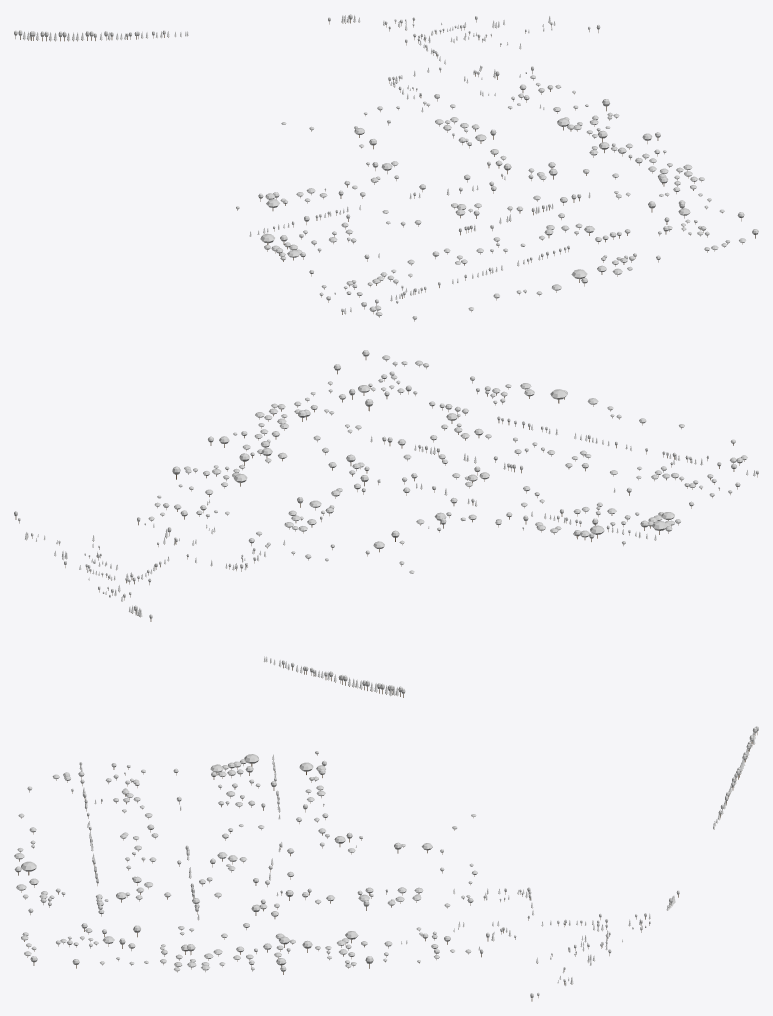
The model's file is stromy.glb.
The picture shows the model from 3 angles, top to bottom: view 1: azimuth 30°, elevation 25°; view 2: azimuth 150°, elevation 25°; view 3: azimuth 270°, elevation 25°; orthographic projection. The views are drawn at different scales.
Visible parts, largest first — view 1: Stromy_Listnate_01_04, Stromy_Ihlicnate_01_04; view 2: Stromy_Listnate_01_04, Stromy_Ihlicnate_01_04; view 3: Stromy_Listnate_01_04, Stromy_Ihlicnate_01_04.
Part boxes in pixels (x1,y1,x2,y2): Stromy_Listnate_01_04: (14,14,758,321); Stromy_Ihlicnate_01_04: (23,15,590,314); Stromy_Listnate_01_04: (14,350,758,697); Stromy_Ihlicnate_01_04: (25,424,755,695); Stromy_Listnate_01_04: (14,726,758,1001); Stromy_Ihlicnate_01_04: (79,731,755,985).
Bounding box in the file's own units: 539 × 48.34 × 708.
